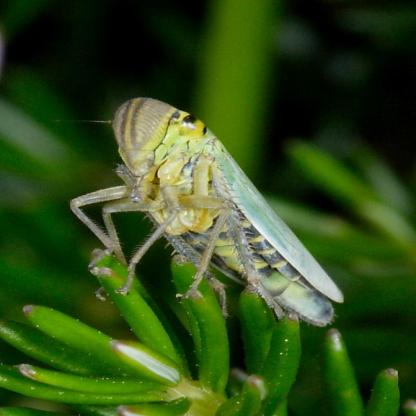Green-Leafhopper: (64, 94, 344, 330)
